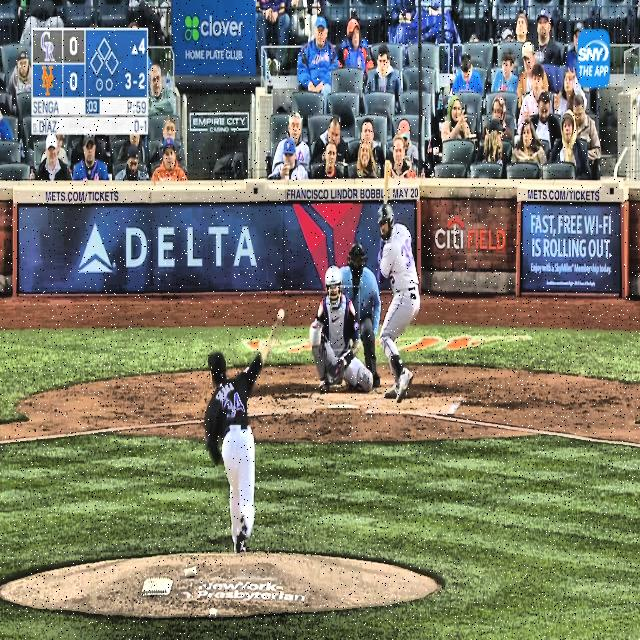baseball: (276, 307, 285, 322)
